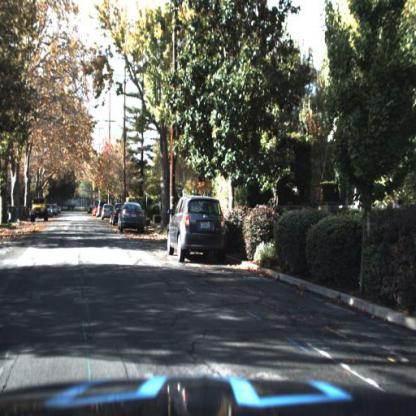car: (165, 182, 235, 261), (118, 197, 153, 237), (31, 198, 52, 223), (102, 197, 115, 225), (110, 202, 121, 233)
